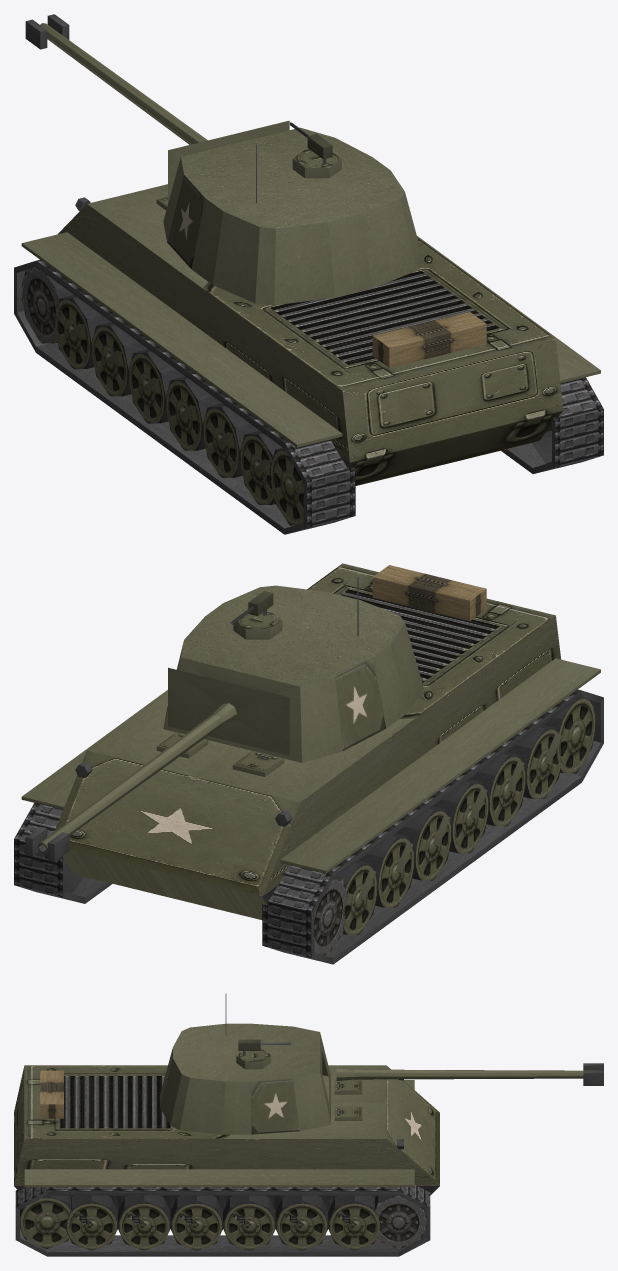
The picture shows the model from 3 angles, top to bottom: view 1: azimuth 30°, elevation 25°; view 2: azimuth 150°, elevation 25°; view 3: azimuth 270°, elevation 25°; orthographic projection. The views are drawn at different scales.
Visible parts, largest first — view 1: Cosmetic_hull_Olive, Cosmetic_wheels, Armor_turret_roof, Cosmetic_track_left, Armor_hull_1_5, Armor_hull_1_4, Armor_hull_roof_5, Armor_hull_1_6, Armor_hull_roof_4, Armor_hull_1_7, Cosmetic_track_right, Armor_turret_wall_8 (+16 smaller); view 2: Cosmetic_hull_Olive, Cosmetic_wheels, Armor_turret_roof, Cosmetic_track_left, Armor_hull_1_0, Armor_hull_1_1, Armor_hull_1_6, Armor_hull_1_7, Armor_hull_roof_5, Cosmetic_gun_recoil, Cosmetic_track_right, Armor_turret_wall_12 (+20 smaller); view 3: Cosmetic_wheels, Cosmetic_hull_Olive, Cosmetic_track_right, Armor_turret_roof, Armor_hull_1_3, Armor_hull_1_2, Armor_hull_roof_4, Armor_hull_roof_5, Cosmetic_gun_recoil, Armor_turret_wall_2, Armor_turret_wall_4, Armor_hull_1_1 (+16 smaller).
Boxes of the visible parts, x1,y1,x2,y2 form: Cosmetic_hull_Olive: [21, 196, 600, 447]; Cosmetic_wheels: [22, 267, 551, 525]; Armor_turret_roof: [181, 127, 404, 228]; Cosmetic_track_left: [14, 260, 355, 534]; Armor_hull_1_5: [342, 365, 456, 462]; Armor_hull_1_4: [449, 339, 563, 436]; Armor_hull_roof_5: [276, 293, 448, 390]; Armor_hull_1_6: [202, 288, 349, 462]; Armor_hull_roof_4: [352, 272, 555, 364]; Armor_hull_1_7: [58, 204, 202, 330]; Cosmetic_track_right: [501, 377, 603, 473]; Armor_turret_wall_8: [274, 222, 334, 305]; Cosmetic_hull_Olive: [21, 565, 600, 873]; Cosmetic_wheels: [66, 697, 595, 955]; Armor_turret_roof: [181, 585, 404, 686]; Cosmetic_track_left: [262, 689, 603, 964]; Armor_hull_1_0: [156, 776, 300, 896]; Armor_hull_1_1: [54, 750, 193, 870]; Armor_hull_1_6: [415, 615, 561, 760]; Armor_hull_1_7: [263, 718, 415, 895]; Armor_hull_roof_5: [405, 598, 555, 678]; Cosmetic_gun_recoil: [25, 703, 236, 861]; Cosmetic_track_right: [14, 803, 112, 903]; Armor_turret_wall_12: [335, 657, 385, 750]; Cosmetic_wheels: [20, 1195, 426, 1250]; Cosmetic_hull_Olive: [24, 1070, 414, 1187]; Cosmetic_track_right: [15, 1185, 430, 1256]; Armor_turret_roof: [173, 1023, 319, 1081]; Armor_hull_1_3: [14, 1139, 222, 1185]; Armor_hull_1_2: [223, 1139, 439, 1185]; Armor_hull_roof_4: [24, 1102, 169, 1138]; Armor_hull_roof_5: [24, 1065, 164, 1102]; Cosmetic_gun_recoil: [336, 1063, 603, 1085]; Armor_turret_wall_2: [251, 1078, 299, 1134]; Armor_turret_wall_4: [180, 1077, 225, 1134]; Armor_hull_1_1: [386, 1102, 439, 1185].
Bounding box in the file's own units: 3.59 × 3.09 × 8.52.
1 material, 1 textured.
